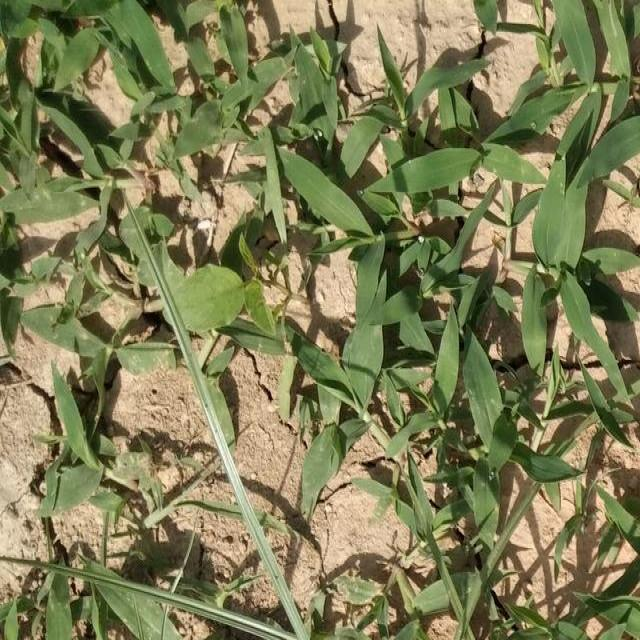weed: (302, 108, 640, 423), (111, 192, 307, 640), (377, 475, 638, 640), (45, 15, 267, 161)
